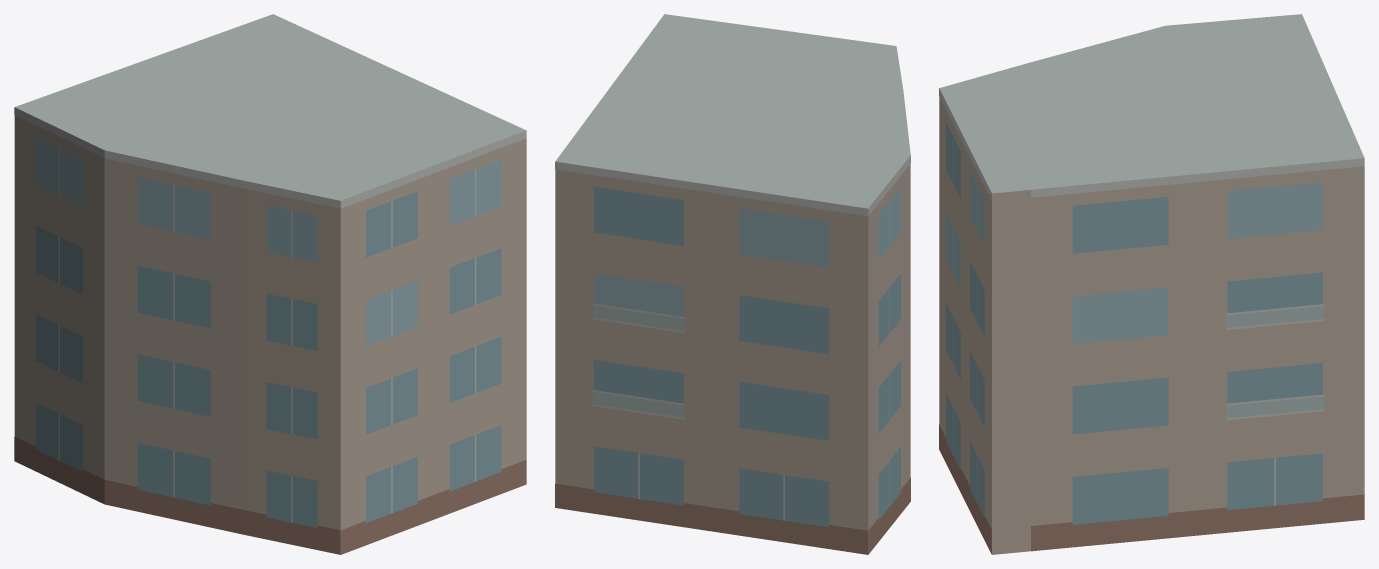
Rendered from survey-upis-32678648.glb.
3 renders of one model, left to right at view 1: azimuth 30°, elevation 25°; view 2: azimuth 150°, elevation 25°; view 3: azimuth 270°, elevation 25°, orthographic. The views are drawn at different scales.
Parts seen in each view (by area): view 1: survey-upis-32678648.tmp; view 2: survey-upis-32678648.tmp; view 3: survey-upis-32678648.tmp.
Part boxes in pixels (x1,y1,x2,y2): survey-upis-32678648.tmp: (14, 14, 526, 554); survey-upis-32678648.tmp: (555, 14, 910, 554); survey-upis-32678648.tmp: (939, 14, 1364, 554).
Size of the model in its own units: 11.72 by 11 by 11.74.
